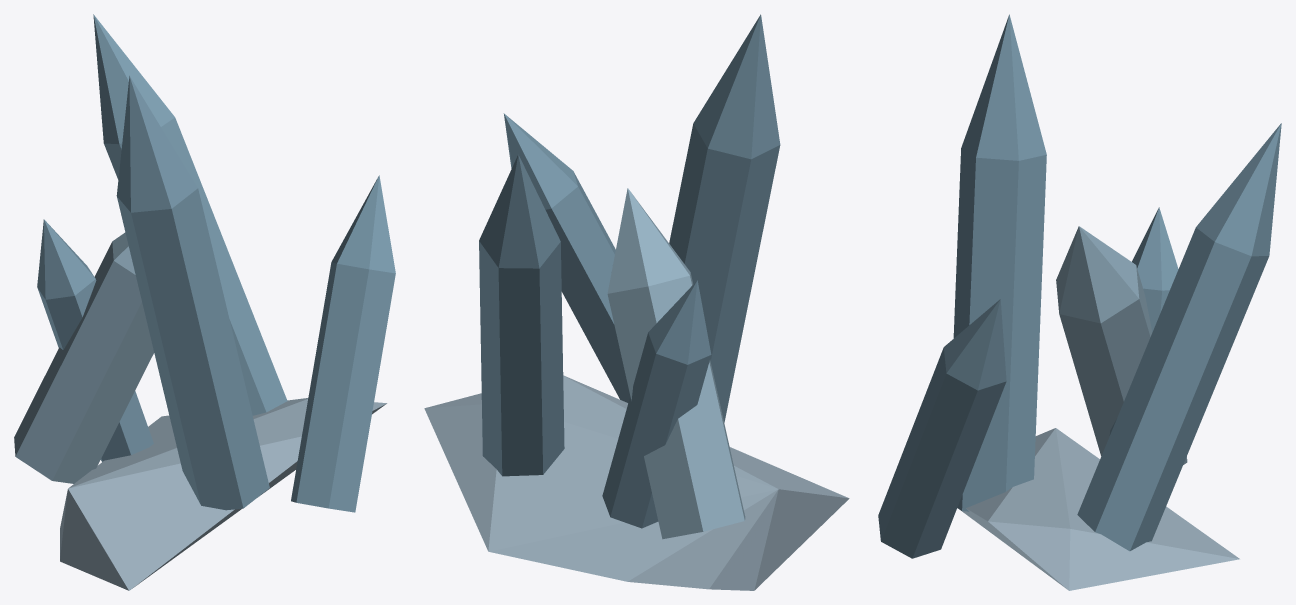
File: shard.glb
3 views of the same model, side by side, from view 1: azimuth 30°, elevation 25°; view 2: azimuth 150°, elevation 25°; view 3: azimuth 270°, elevation 25° (orthographic). The views are drawn at different scales.
Parts seen in each view (by area): view 1: shard; view 2: shard; view 3: shard.
Part boxes in pixels (<box>): shard: <box>14,14,395,590</box>; shard: <box>424,14,849,590</box>; shard: <box>878,14,1281,590</box>.
Size of the model in its own units: 0.7193 by 1.03 by 0.7236.
